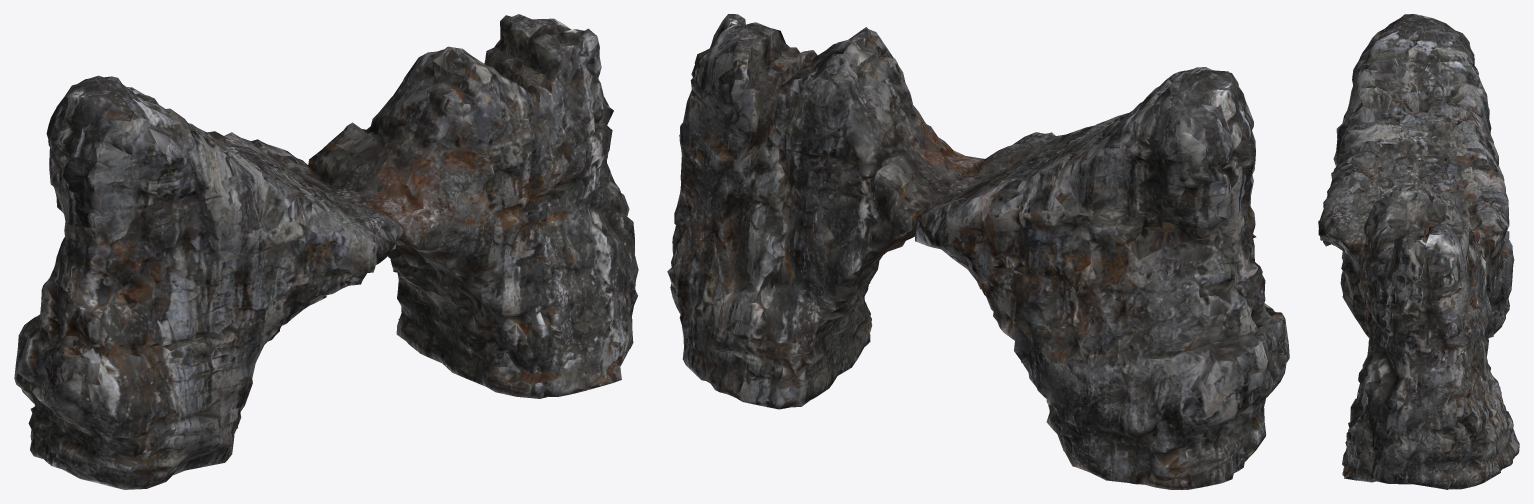
The model's file is Rock_tor.glb.
3 renders of one model, left to right at view 1: azimuth 30°, elevation 25°; view 2: azimuth 150°, elevation 25°; view 3: azimuth 270°, elevation 25°, orthographic. The views are drawn at different scales.
Visible parts, largest first — view 1: Rock Rugged Arch Formation; view 2: Rock Rugged Arch Formation; view 3: Rock Rugged Arch Formation.
Part boxes in pixels (x1=…): Rock Rugged Arch Formation: x1=14, y1=14, x2=638, y2=489; Rock Rugged Arch Formation: x1=667, y1=14, x2=1289, y2=489; Rock Rugged Arch Formation: x1=1318, y1=14, x2=1519, y2=489.
Bounding box in the file's own units: 16.77 × 10.14 × 6.48.
Materials: 1 (1 with a texture image).
